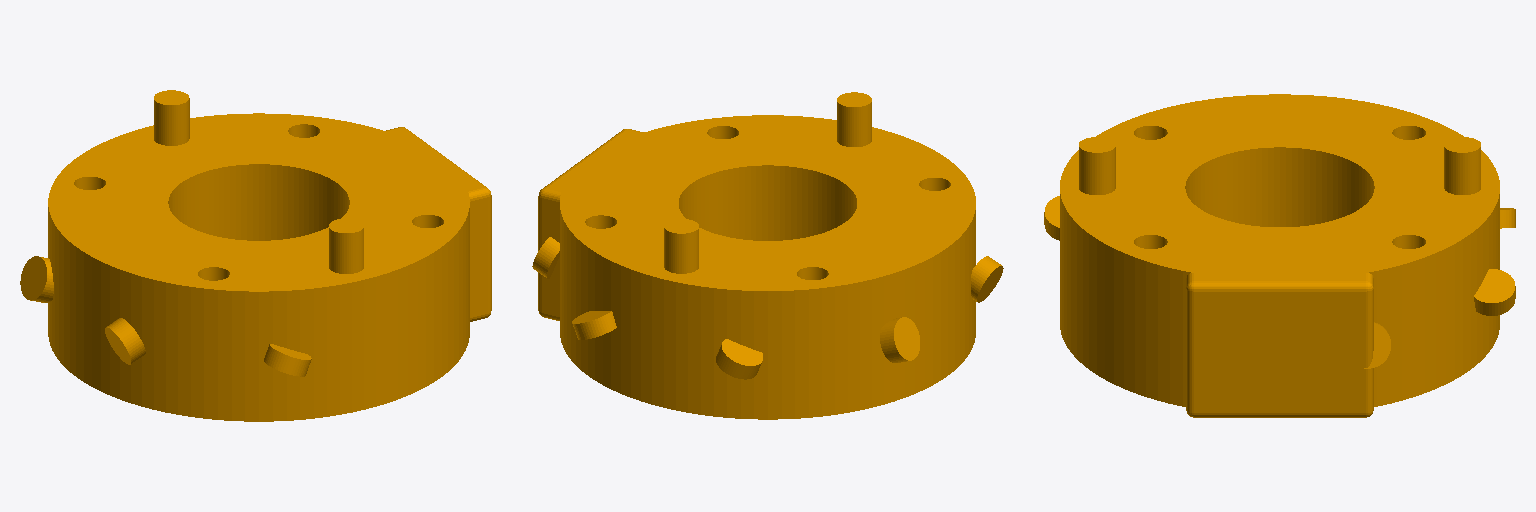
robot.urdf — kosmek_swr0070_tool:
<?xml version="1.0"?>
<robot name="kosmek_swr0070_tool">
<link name="mount"><visual ><geometry ><mesh filename="../meshes/tool/mount.obj"/></geometry></visual><collision ><origin xyz="0 0 0.008" rpy="0 0 0"/><geometry ><cylinder radius="0.0235" length="0.016"/></geometry></collision></link>
<link name="flange"></link>
<joint name="flange_joint" type="fixed"><parent link="mount"/><child link="flange"/><origin xyz="0 0 0.016" rpy="0 0 0"/></joint>
</robot>

--- Render facts (derived) ---
3 views of the same robot in one strip: view 1: azimuth 30°, elevation 25°; view 2: azimuth 150°, elevation 25°; view 3: azimuth 270°, elevation 25° (orthographic).
Robot: kosmek_swr0070_tool — 2 links, 1 joints (1 fixed); root link mount; default pose: every joint at zero.
Links seen in each view (by area): view 1: mount; view 2: mount; view 3: mount.
Boxes of the visible links, bbox=[...] form: mount: bbox=[20, 90, 491, 421]; mount: bbox=[532, 92, 1003, 419]; mount: bbox=[1044, 94, 1515, 417].
Size in the robot's own frame: 0.049 by 0.0503 by 0.021 metres.
1 mesh visuals loaded from 1 distinct referenced files (1 OBJ).
